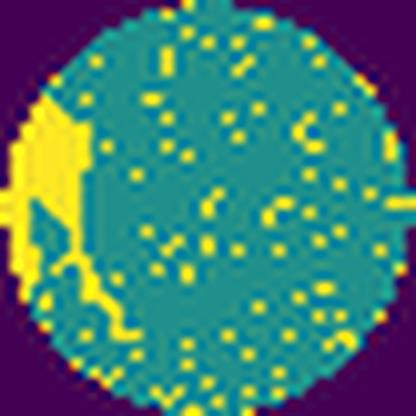Edge-Loc: (0, 90, 142, 347)
